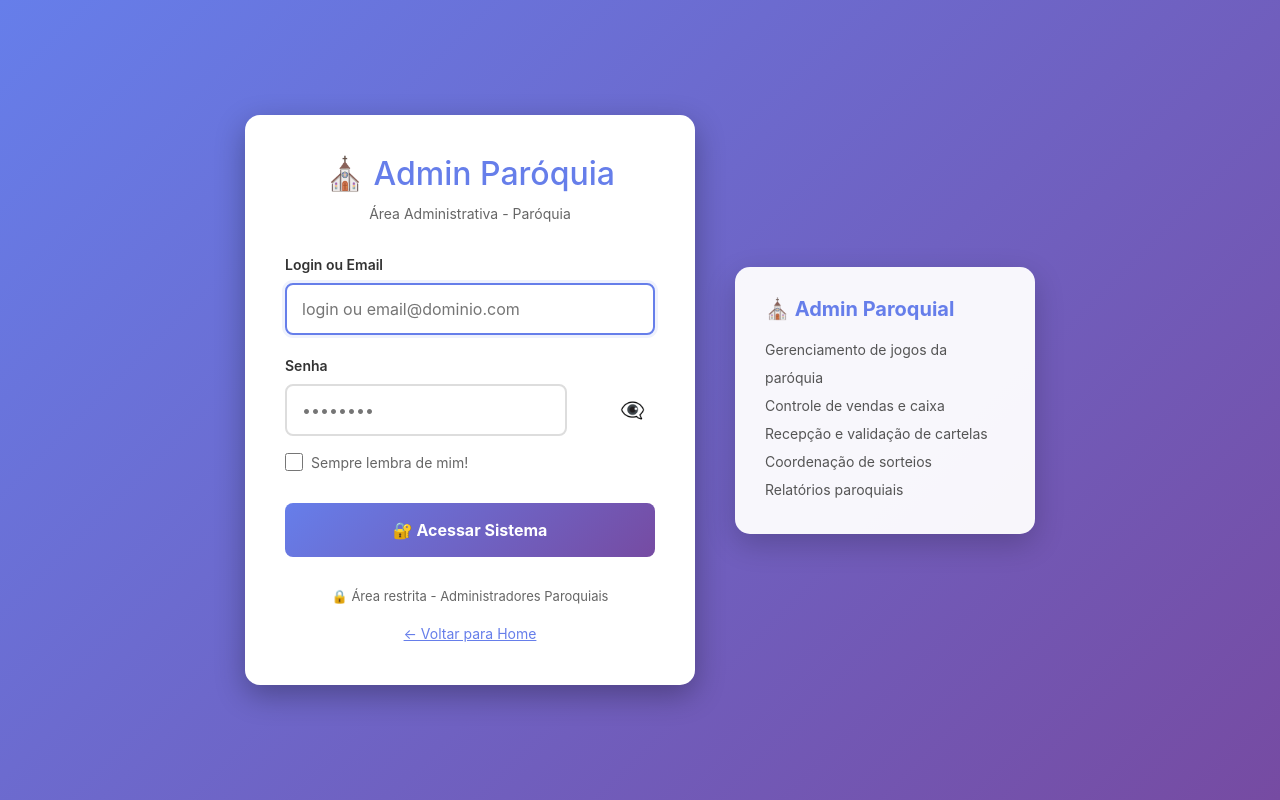
Test: AdminParoquiaLogin › Perfil Admin-Paróquia Hacker (Segurança/PenTest): usuário admin-site é bloqueado
Type "admin.site@exemplo.com" into the field with placeholder "login ou email@dominio.com" at x=470, y=309, box [285,283,655,335]
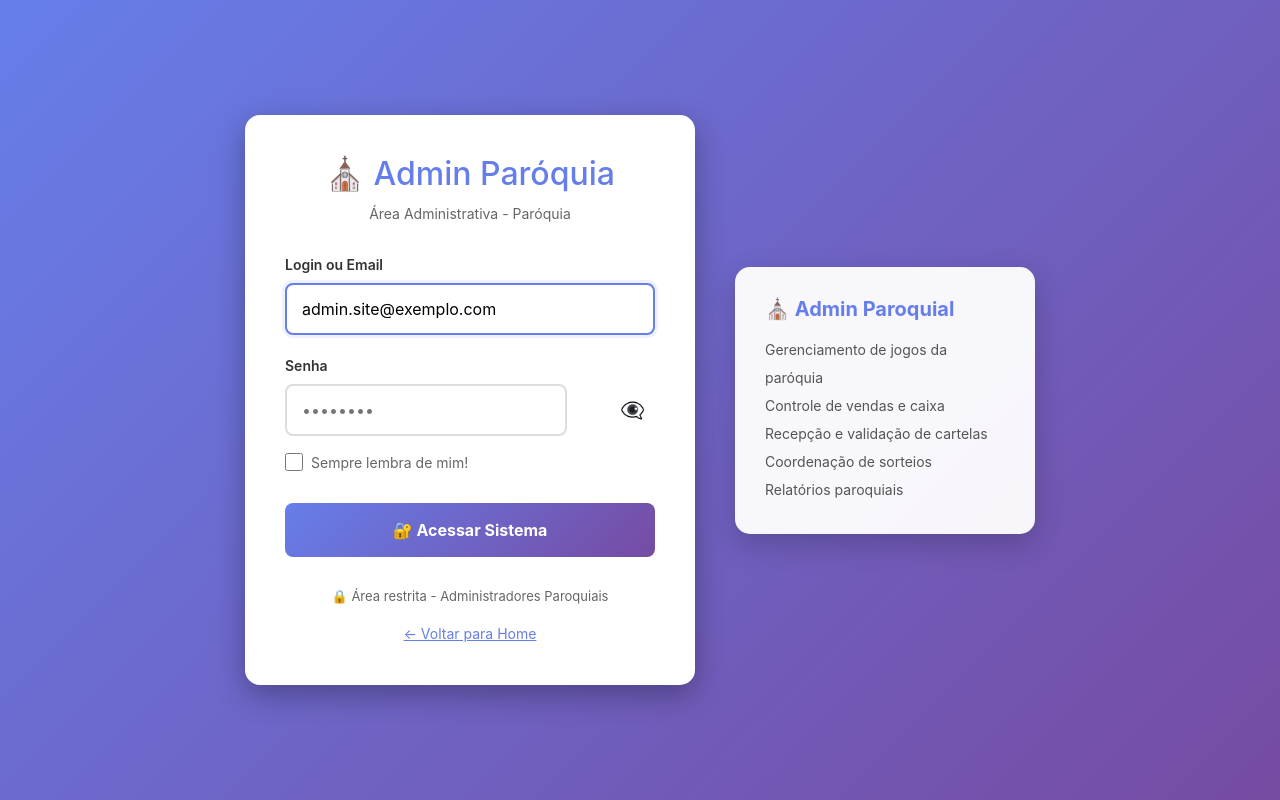
Type "Senha@123" into the password field with placeholder "••••••••" at x=426, y=410, box [285,384,567,436]
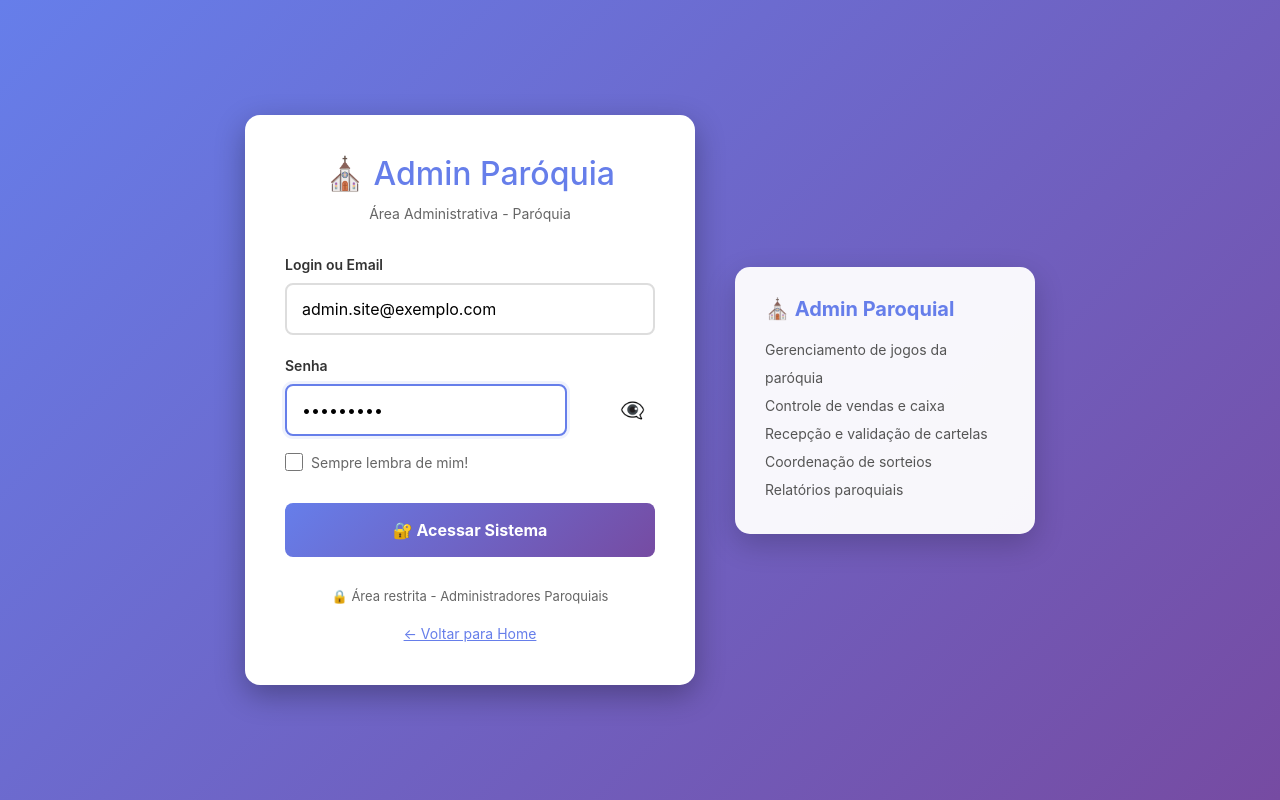
Click the button "🔐 Acessar Sistema" at x=470, y=530, box [285,503,655,557]
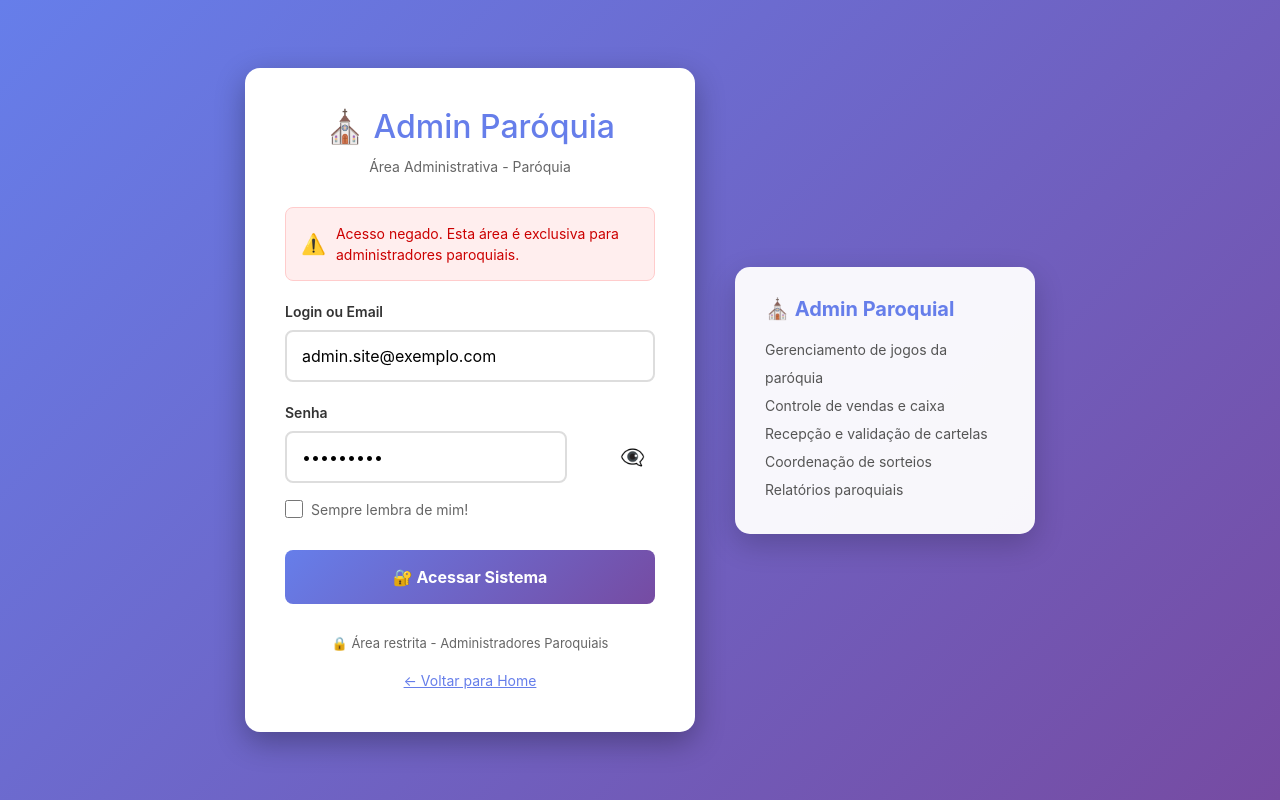
Result: the text "Acesso negado" is shown at [336,225,619,263]
